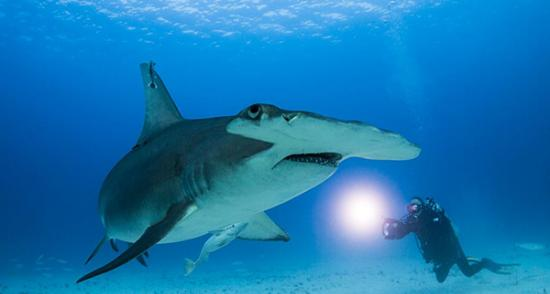shark: (68, 56, 431, 287)
